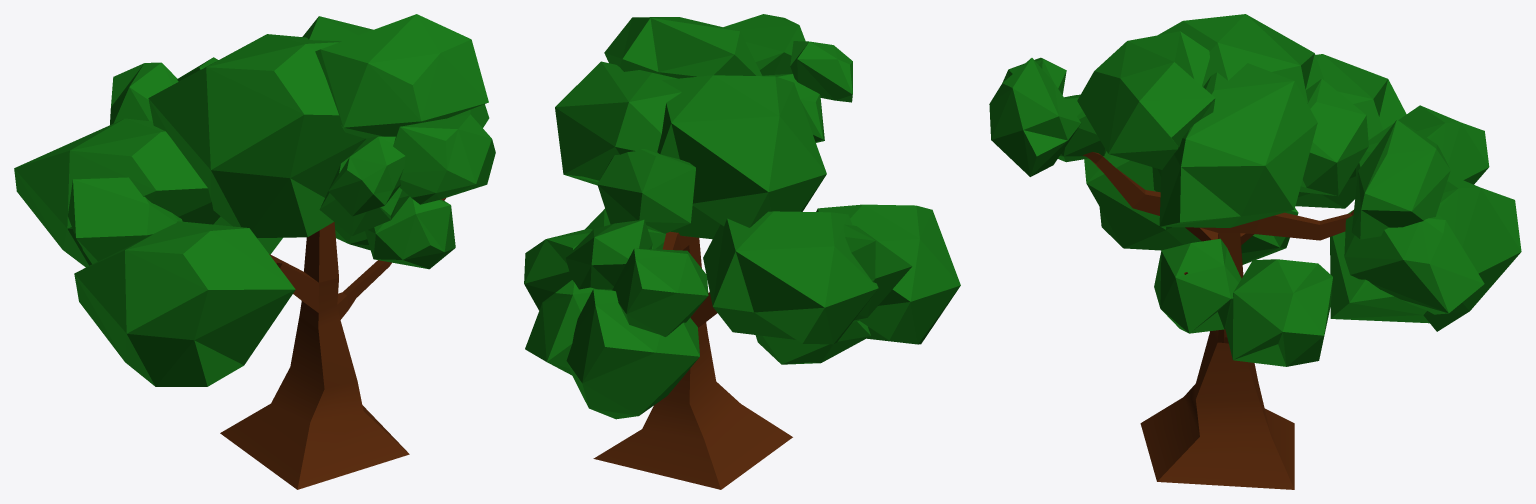
File: tree1.fbx
3 views of the same model, side by side, from view 1: azimuth 30°, elevation 25°; view 2: azimuth 150°, elevation 25°; view 3: azimuth 270°, elevation 25° (orthographic). The views are drawn at different scales.
Parts seen in each view (by area): view 1: GeoSphere011, GeoSphere027, Tree003, GeoSphere018, GeoSphere028, GeoSphere019, GeoSphere029, GeoSphere014, GeoSphere020, GeoSphere022, GeoSphere021, GeoSphere016; view 2: GeoSphere011, GeoSphere028, Tree003, GeoSphere025, GeoSphere016, GeoSphere027, GeoSphere018, GeoSphere017, GeoSphere022, GeoSphere024, GeoSphere023, GeoSphere020 (+6 smaller); view 3: Tree003, GeoSphere016, GeoSphere018, GeoSphere025, GeoSphere015, GeoSphere023, GeoSphere024, GeoSphere019, GeoSphere011, GeoSphere014, GeoSphere017, GeoSphere027 (+5 smaller).
Part boxes in pixels (bbox=[...]): GeoSphere011: bbox=[148, 34, 365, 238]; GeoSphere027: bbox=[74, 221, 295, 386]; Tree003: bbox=[220, 198, 445, 489]; GeoSphere018: bbox=[315, 14, 488, 138]; GeoSphere028: bbox=[14, 118, 220, 267]; GeoSphere019: bbox=[393, 114, 495, 204]; GeoSphere029: bbox=[68, 176, 182, 263]; GeoSphere014: bbox=[365, 196, 455, 269]; GeoSphere020: bbox=[328, 136, 405, 216]; GeoSphere022: bbox=[110, 62, 178, 124]; GeoSphere021: bbox=[319, 157, 409, 235]; GeoSphere016: bbox=[302, 16, 489, 127]; GeoSphere011: bbox=[657, 75, 826, 239]; GeoSphere028: bbox=[703, 211, 878, 344]; Tree003: bbox=[593, 231, 792, 489]; GeoSphere025: bbox=[566, 289, 699, 419]; GeoSphere016: bbox=[555, 61, 681, 185]; GeoSphere027: bbox=[816, 204, 960, 344]; GeoSphere018: bbox=[604, 17, 762, 78]; GeoSphere017: bbox=[597, 149, 695, 233]; GeoSphere022: bbox=[612, 248, 708, 336]; GeoSphere024: bbox=[565, 219, 652, 289]; GeoSphere023: bbox=[525, 280, 594, 375]; GeoSphere020: bbox=[790, 41, 852, 102]; Tree003: bbox=[1083, 152, 1353, 489]; GeoSphere016: bbox=[1159, 63, 1317, 227]; GeoSphere018: bbox=[1077, 31, 1215, 169]; GeoSphere025: bbox=[1330, 180, 1521, 331]; GeoSphere015: bbox=[1225, 259, 1332, 366]; GeoSphere023: bbox=[1344, 214, 1484, 314]; GeoSphere024: bbox=[1351, 119, 1450, 239]; GeoSphere019: bbox=[989, 58, 1081, 176]; GeoSphere011: bbox=[1152, 14, 1324, 192]; GeoSphere014: bbox=[1154, 238, 1241, 333]; GeoSphere017: bbox=[1299, 79, 1368, 196]; GeoSphere027: bbox=[1084, 151, 1195, 250].
Bounding box in the file's own units: 2709 × 2842 × 3206.
